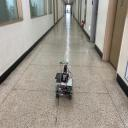cart: (54, 74, 73, 100)
